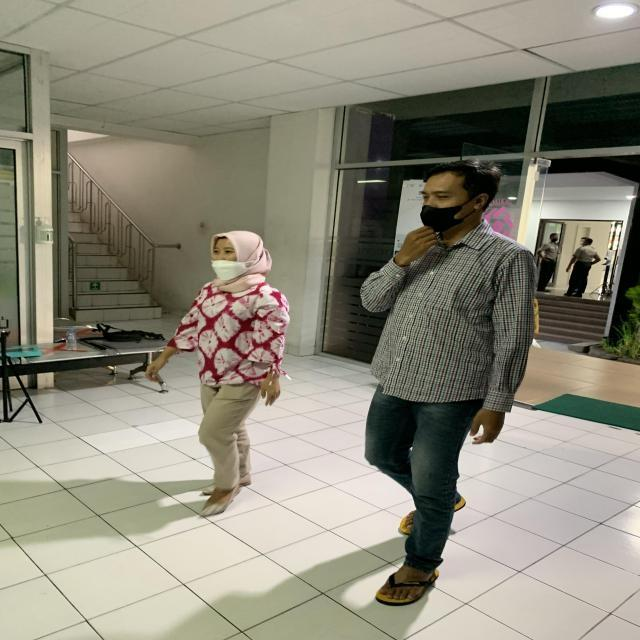hairnet: (204, 230, 274, 290)
